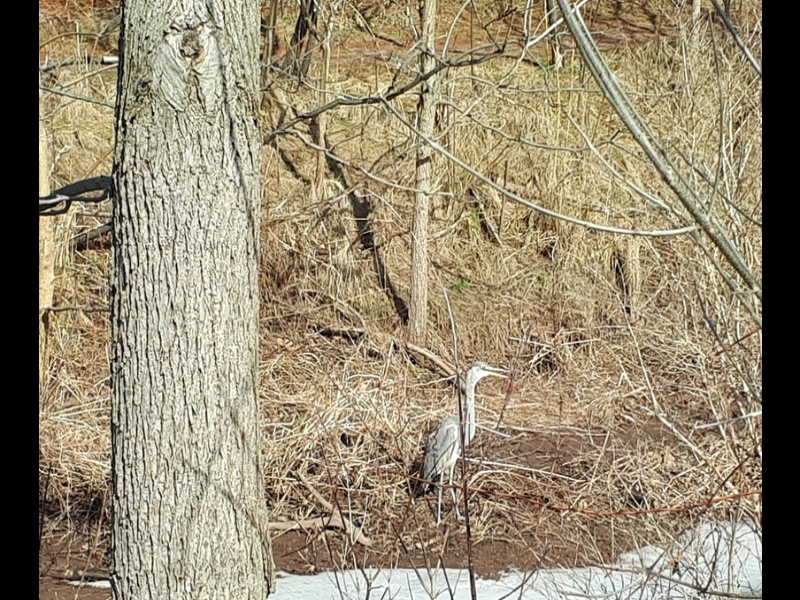heron: (415, 357, 511, 538)
